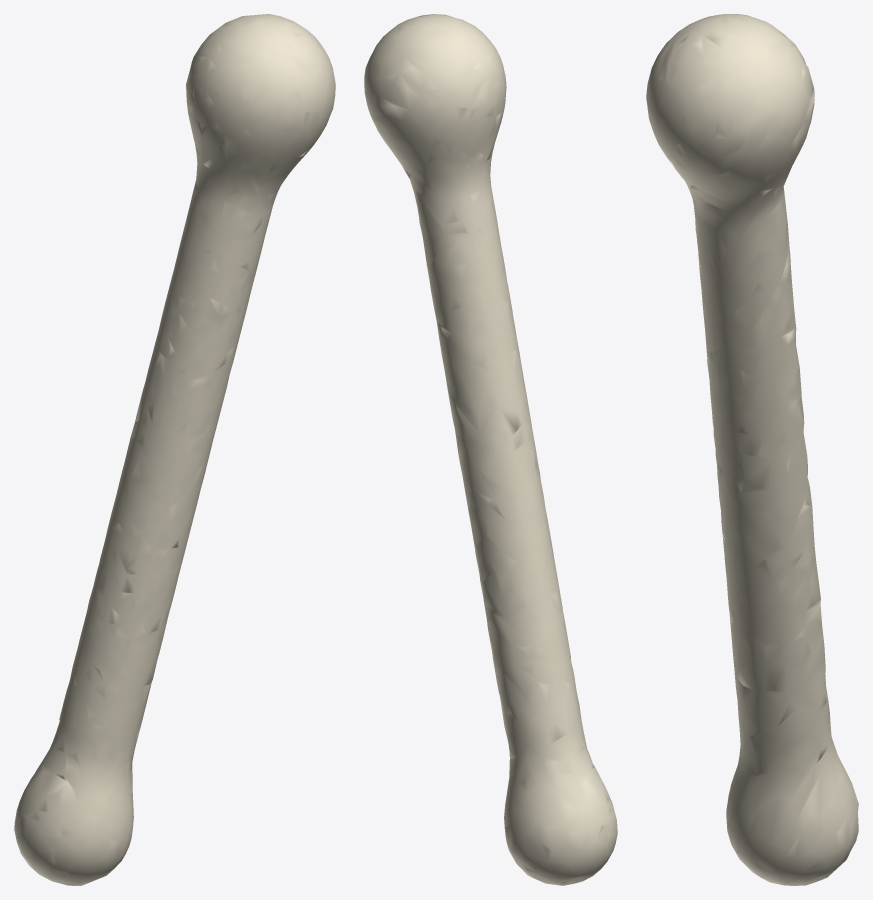
The model's file is ulna_l.glb.
The picture shows the model from 3 angles, left to right: view 1: azimuth 30°, elevation 25°; view 2: azimuth 150°, elevation 25°; view 3: azimuth 270°, elevation 25°; orthographic projection. The views are drawn at different scales.
Parts seen in each view (by area): view 1: geometry_0; view 2: geometry_0; view 3: geometry_0.
Boxes of the visible parts, x1,y1,x2,y2 form: geometry_0: [14, 14, 335, 885]; geometry_0: [364, 14, 617, 885]; geometry_0: [646, 14, 858, 885].
Bounding box in the file's own units: 0.2849 × 0.8292 × 0.169.
